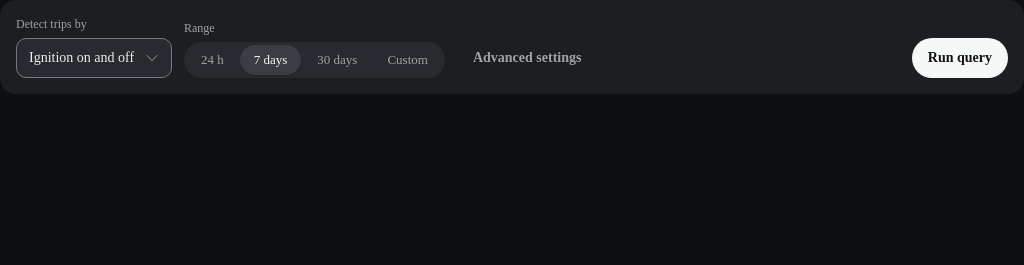
Test case: TripsTab › will not run an invalid or over-31-day range
Step 1. Click the radio button labelled "Custom" → coordinates (408, 60), box [373,45,442,75]
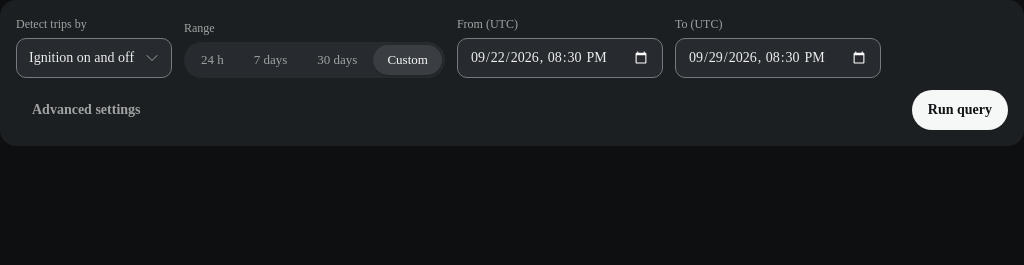
Step 2. Replace the text in the field labelled "From (UTC)" with "2026-08-01T00:00" → coordinates (560, 58), box [470,47,650,69]
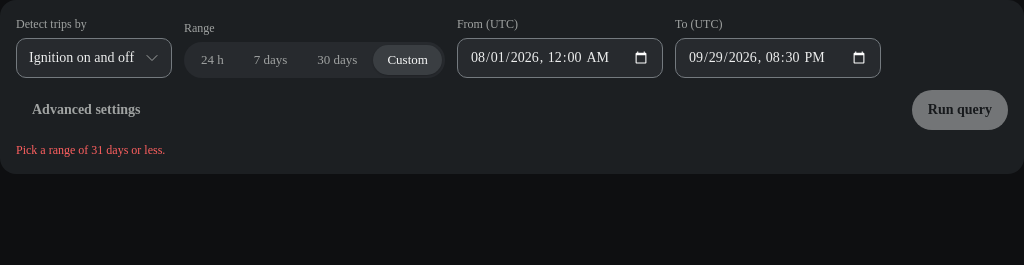
Expected: the button "Run query" is disabled, [912,90,1008,130]
Expected: the text "Pick a range of 31 days or less." is shown, [16,143,165,157]
Step 3. Replace the text in the field labelled "From (UTC)" with "2026-09-28T00:00" → coordinates (560, 58), box [470,47,650,69]
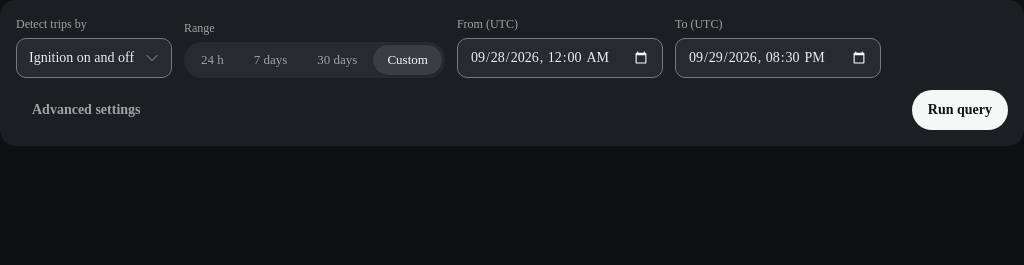
Expected: the button "Run query" is enabled, [912,90,1008,130]
Expected: the text "Pick a range of 31 days or less." is gone
Step 4. Replace the text in the field labelled "To (UTC)" with "2026-09-27T00:00" → coordinates (778, 58), box [688,47,868,69]
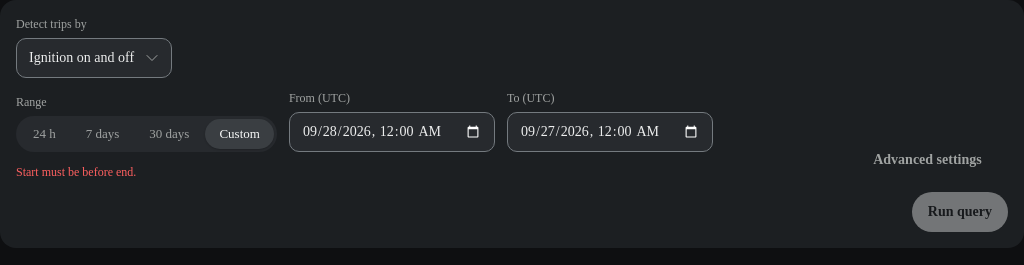
Expected: the button "Run query" is disabled, [912,192,1008,232]
